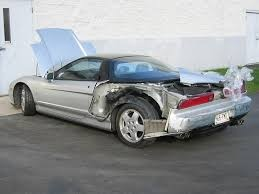Broken-glass: (222, 81, 247, 100)
Smashed: (146, 70, 252, 140), (96, 82, 156, 107)
